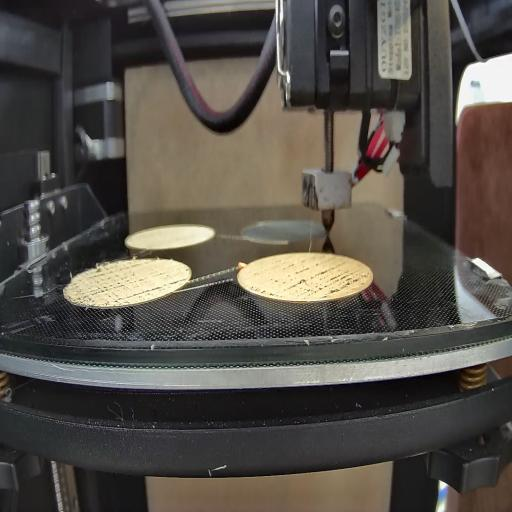under_extrusion: (252, 267, 370, 299), (70, 266, 123, 308), (126, 278, 188, 304)
